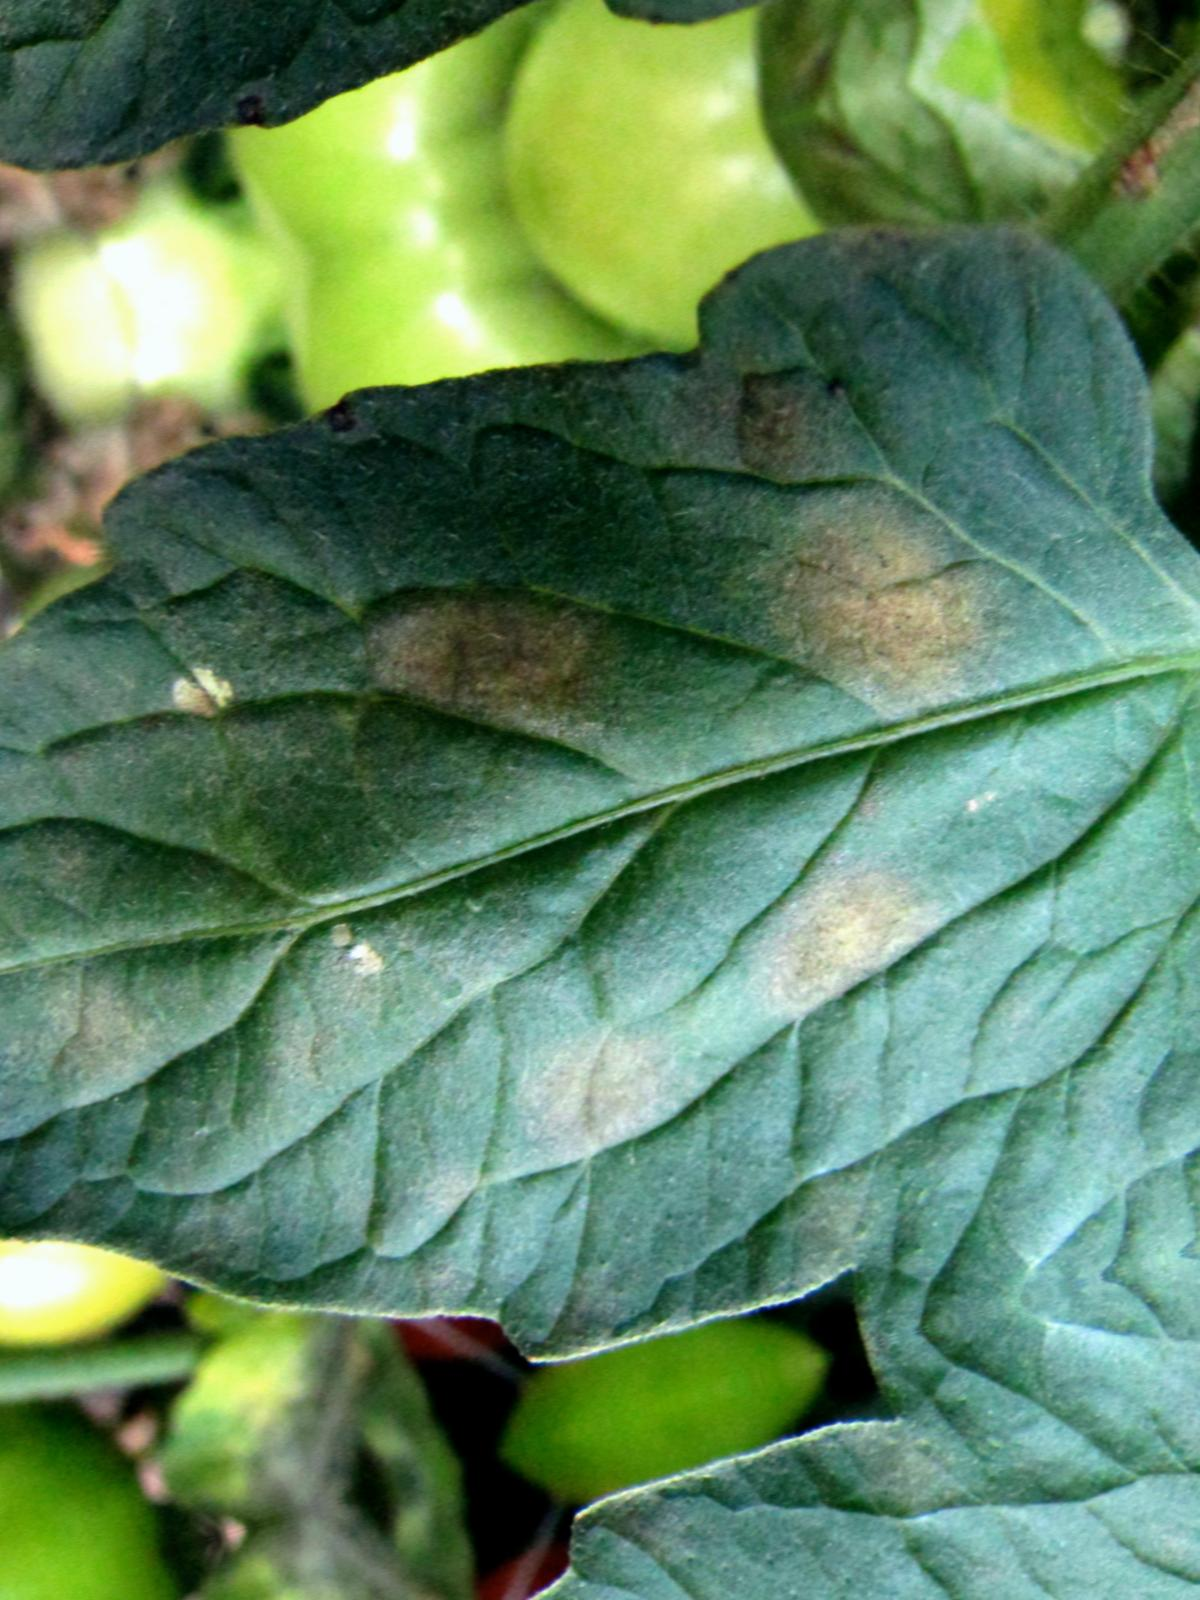Tomato mold leaf: (0, 120, 1200, 1584)
